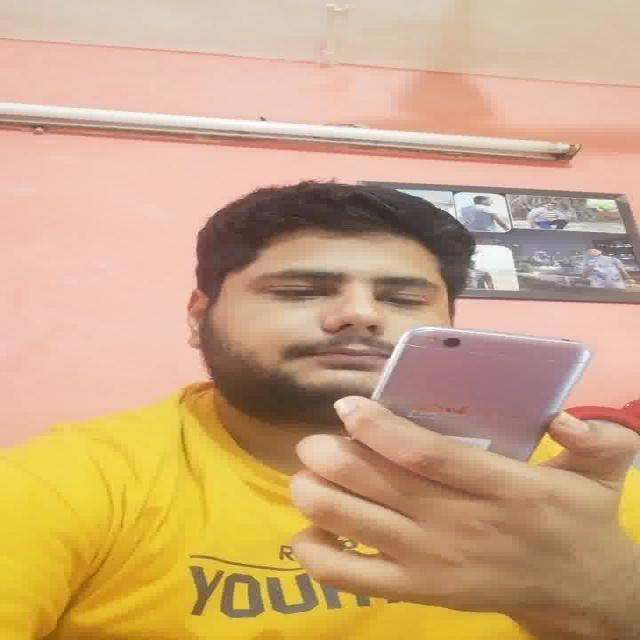Phone: (370, 324, 594, 466)
